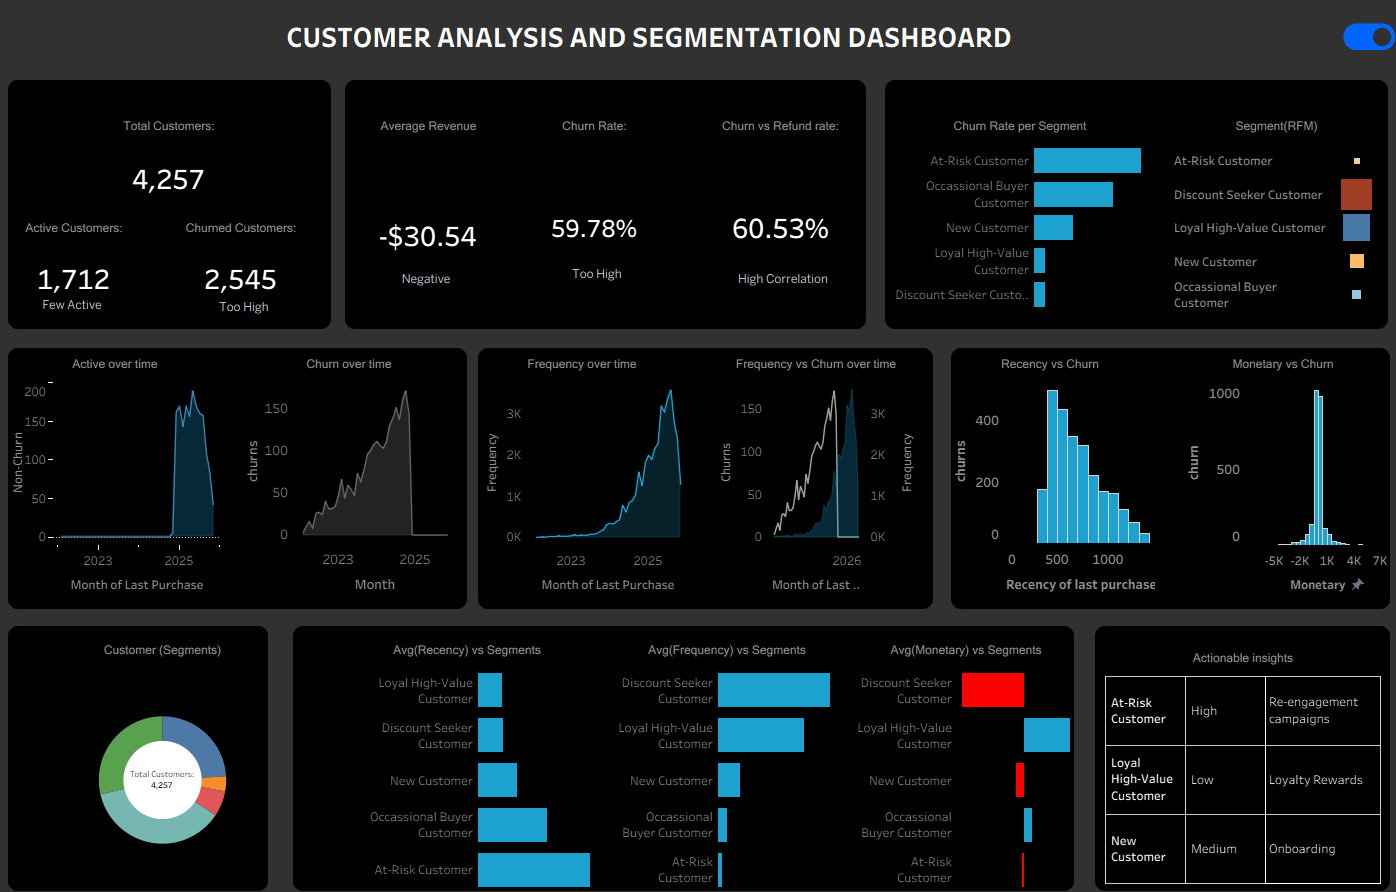

Layout of this report page (visuals, bound fields, positions):
{"tool":"tableau","page":{"name":"customer_analysis","canvas":[1000,1000],"units":"permille","ordinal":0},"visuals":[{"type":"text","box":[0,0,928.6,88.9]},{"type":"blank","box":[928.6,0,28.6,88.9]},{"type":"dashboard-object","box":[957.1,0,42.9,88.9]},{"type":"blank","box":[0,66.7,1000,33.3]},{"type":"blank","box":[0,88.9,1000,27.8]},{"type":"text","box":[0,100,1000,794.5]},{"type":"blank","box":[239.3,122.2,10,237.8]},{"type":"worksheet","title":"total_customers_kpi","mark":"Automatic","box":[7.1,127.8,228.6,100]},{"type":"worksheet","title":"average_revenue","mark":"Automatic","box":[252.8,127.8,107.9,226.7]},{"type":"blank","box":[360.7,127.8,10,226.7]},{"type":"worksheet","title":"churn_rate_kpi","mark":"Automatic","box":[370.7,127.8,109.3,226.7]},{"type":"blank","box":[480,127.8,10,226.7]},{"type":"worksheet","title":"churn_refund_rate","mark":"Text","box":[490,127.8,136.4,226.7]},{"type":"blank","box":[626.4,127.8,10,226.7]},{"type":"worksheet","title":"churn_rate_segment","mark":"Automatic","rows":["Segment"],"cols":["Calculation_0774661300203521"],"box":[636.4,127.8,185.8,226.7]},{"type":"blank","box":[822.1,127.8,10,226.7]},{"type":"worksheet","title":"clusters_rfm","mark":"Square","rows":["Segment"],"box":[832.1,127.8,160.7,226.7]},{"type":"blank","box":[7.1,227.8,228.6,13.3]},{"type":"worksheet","title":"Active customers","mark":"Automatic","box":[7.1,241.1,92.9,113.3]},{"type":"blank","box":[100,241.1,10,113.3]},{"type":"worksheet","title":"churned customers","mark":"Automatic","box":[110,241.1,125.7,113.3]},{"type":"text","box":[391.4,292.2,71.4,33.3]},{"type":"text","box":[269.3,297.8,71.4,33.3]},{"type":"text","box":[524.3,297.8,71.4,33.3]},{"type":"text","box":[16.4,326.7,71.4,33.3]},{"type":"text","box":[139.3,330,71.4,30]},{"type":"blank","box":[0,365.6,1000,20]},{"type":"worksheet","title":"Active_over_time","mark":"Automatic","rows":["Calculation_0342003768872960","Calculation_0342003768872960"],"cols":["last_purchase"],"box":[4.3,392.2,156.9,283.9]},{"type":"blank","box":[161.2,392.2,10,283.9]},{"type":"worksheet","title":"churn_over_time","mark":"Line","rows":["Calculation_0774661304332291","Calculation_0774661304332291"],"cols":["last_purchase"],"box":[171.2,392.2,156.9,283.9]},{"type":"blank","box":[328.1,392.2,10,283.9]},{"type":"worksheet","title":"frequency over time","mark":"Automatic","rows":["frequency","frequency"],"cols":["last_purchase"],"box":[338.1,392.2,156.9,283.9]},{"type":"blank","box":[495,392.2,10,283.9]},{"type":"worksheet","title":"frequency_vs churn","mark":"Automatic","rows":["Calculation_0774661304332291","frequency"],"cols":["last_purchase"],"box":[505,392.2,156.9,283.9]},{"type":"blank","box":[661.9,392.2,10,283.9]},{"type":"worksheet","title":"recency_churn","mark":"Automatic","rows":["Calculation_0774661304332291"],"cols":["Recency (bin)"],"box":[671.9,392.2,156.9,283.9]},{"type":"blank","box":[828.8,392.2,10,283.9]},{"type":"worksheet","title":"monetary_churn","mark":"Automatic","rows":["Calculation_0774661304332291"],"cols":["Monetary (bin)"],"box":[838.8,392.2,156.9,283.9]},{"type":"blank","box":[0,682.8,1000,20]},{"type":"worksheet","title":"customer_segment","mark":"Pie","rows":["Calculation_0774661317095437","Calculation_0774661317132303"],"box":[4.3,709.5,225,290.6]},{"type":"blank","box":[229.3,709.5,10,290.6]},{"type":"worksheet","title":"avg_recency_segment","mark":"Automatic","rows":["Segment"],"cols":["recency"],"box":[239.3,709.5,170.7,290.6]},{"type":"blank","box":[410,709.5,10,290.6]},{"type":"worksheet","title":"avg_frequency_segment","mark":"Automatic","rows":["Segment"],"cols":["frequency"],"box":[420,709.5,170.7,290.6]},{"type":"blank","box":[590.7,709.5,10,290.6]},{"type":"worksheet","title":"avg_monetary_segment","mark":"Automatic","rows":["Segment"],"cols":["monetary"],"box":[600.7,709.5,170.7,290.6]},{"type":"blank","box":[771.4,709.5,10,290.6]},{"type":"worksheet","title":"actionable_insights","mark":"Text","rows":["F2","F3"],"box":[781.4,709.5,214.3,290.6]},{"type":"blank","box":[0,894.5,1000,33.3]}]}

Visuals, with their boxes on the dashboard's canvas, which has no fixed pixel size, in thousandths of its width and height (x1, y1, x2, y2). These are canvas units, not pixel positions in the 1396x892 screenshot, which may show the page scaled, cropped or inside an application window:
text: (0,0,929,89)
blank: (929,0,957,89)
dashboard-object: (957,0,1000,89)
blank: (0,67,1000,100)
blank: (0,89,1000,117)
text: (0,100,1000,894)
blank: (239,122,249,360)
"total_customers_kpi" worksheet: (7,128,236,228)
"average_revenue" worksheet: (253,128,361,354)
blank: (361,128,371,354)
"churn_rate_kpi" worksheet: (371,128,480,354)
blank: (480,128,490,354)
"churn_refund_rate" worksheet (Text marks): (490,128,626,354)
blank: (626,128,636,354)
"churn_rate_segment" worksheet: (636,128,822,354)
blank: (822,128,832,354)
"clusters_rfm" worksheet (Square marks): (832,128,993,354)
blank: (7,228,236,241)
"Active customers" worksheet: (7,241,100,354)
blank: (100,241,110,354)
"churned customers" worksheet: (110,241,236,354)
text: (391,292,463,326)
text: (269,298,341,331)
text: (524,298,596,331)
text: (16,327,88,360)
text: (139,330,211,360)
blank: (0,366,1000,386)
"Active_over_time" worksheet: (4,392,161,676)
blank: (161,392,171,676)
"churn_over_time" worksheet (Line marks): (171,392,328,676)
blank: (328,392,338,676)
"frequency over time" worksheet: (338,392,495,676)
blank: (495,392,505,676)
"frequency_vs churn" worksheet: (505,392,662,676)
blank: (662,392,672,676)
"recency_churn" worksheet: (672,392,829,676)
blank: (829,392,839,676)
"monetary_churn" worksheet: (839,392,996,676)
blank: (0,683,1000,703)
"customer_segment" worksheet (Pie marks): (4,710,229,1000)
blank: (229,710,239,1000)
"avg_recency_segment" worksheet: (239,710,410,1000)
blank: (410,710,420,1000)
"avg_frequency_segment" worksheet: (420,710,591,1000)
blank: (591,710,601,1000)
"avg_monetary_segment" worksheet: (601,710,771,1000)
blank: (771,710,781,1000)
"actionable_insights" worksheet (Text marks): (781,710,996,1000)
blank: (0,894,1000,928)
